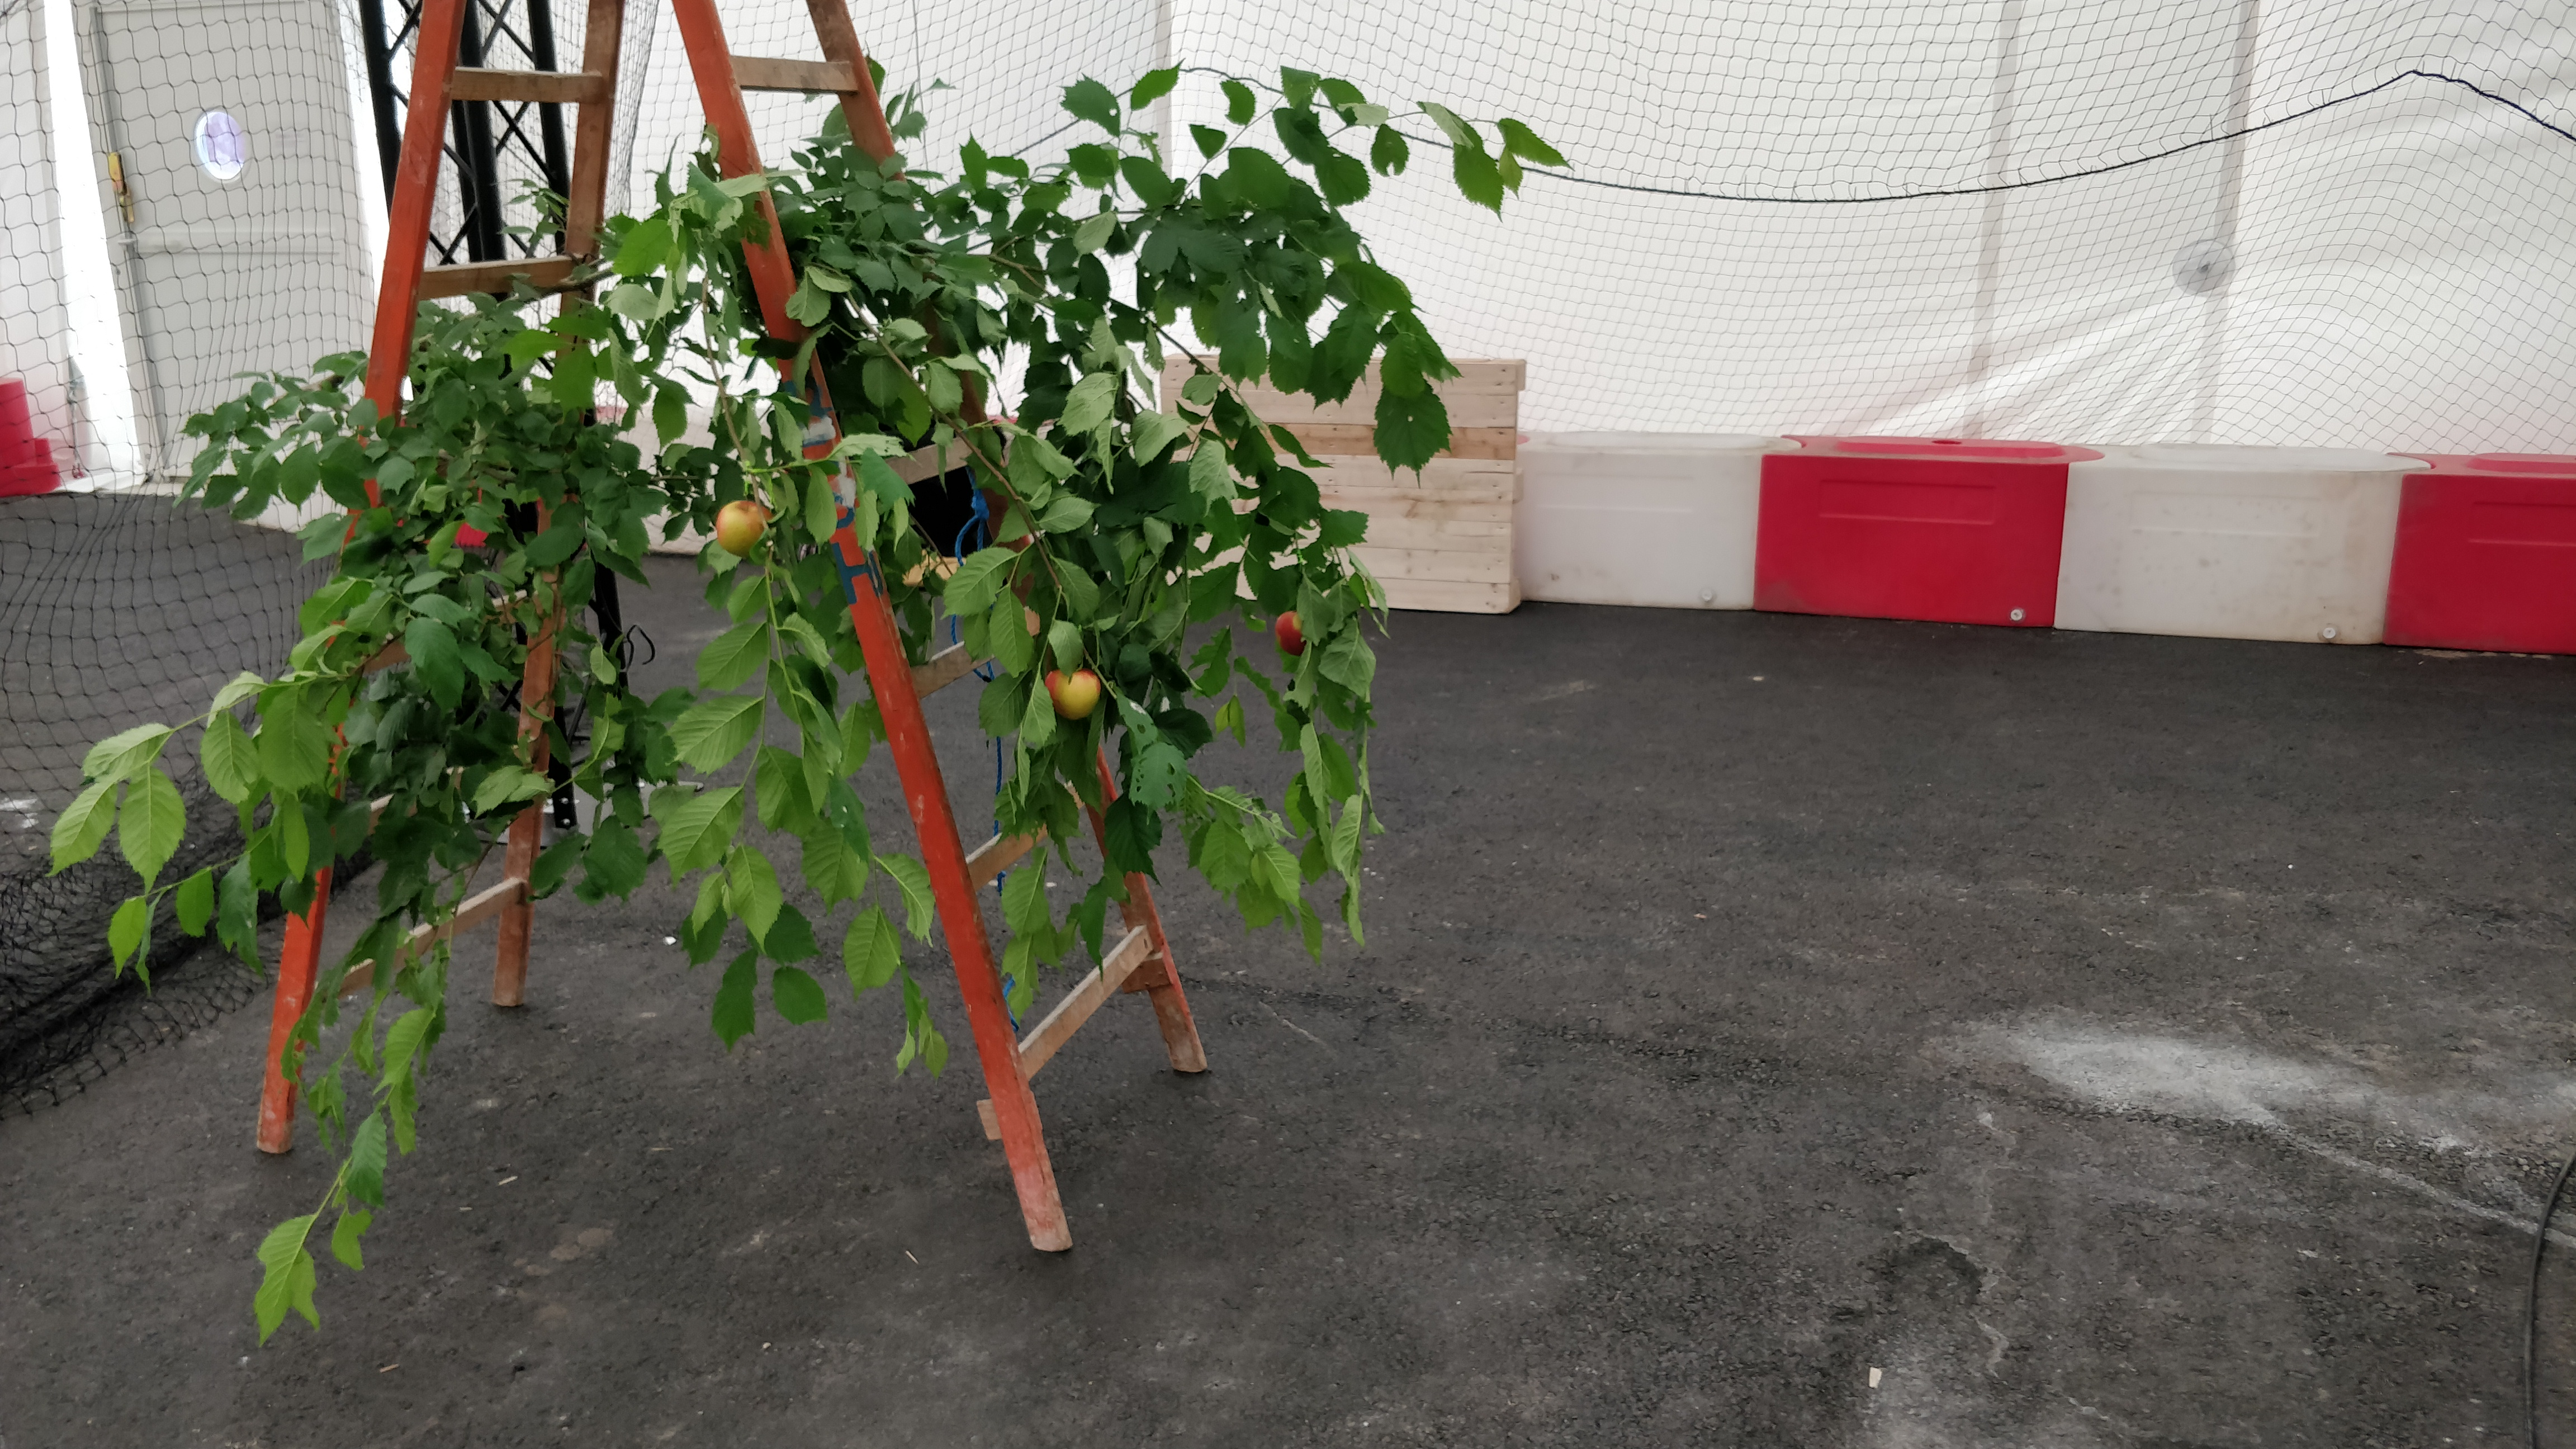apple: (717, 501, 775, 557), (1046, 669, 1100, 720), (1276, 610, 1306, 656)
